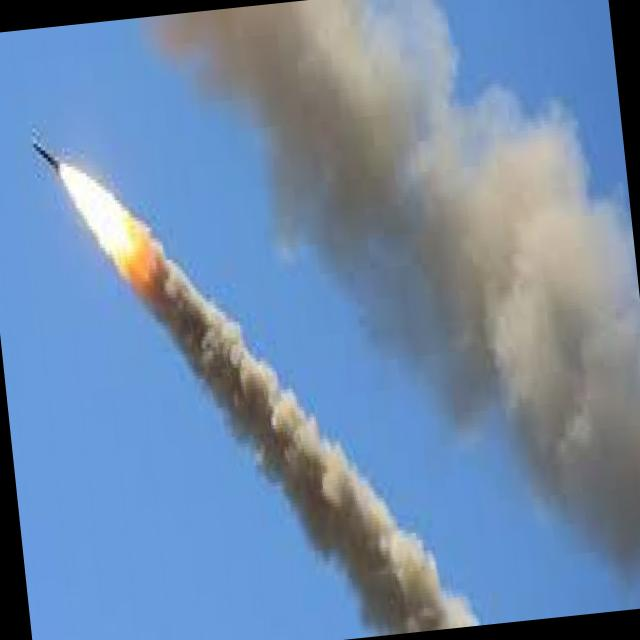rocket: (28, 122, 153, 311)
